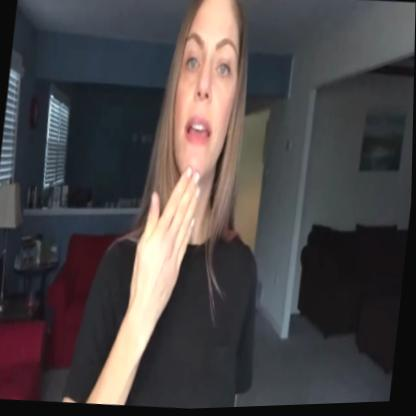ThankYou: (112, 0, 255, 342)
